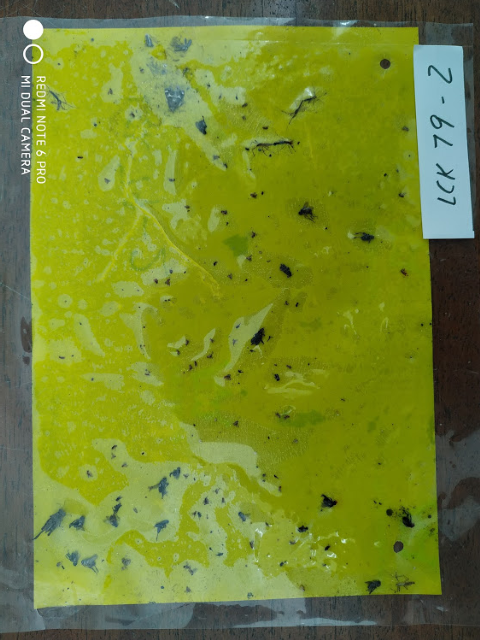DBM: (142, 32, 156, 51)
